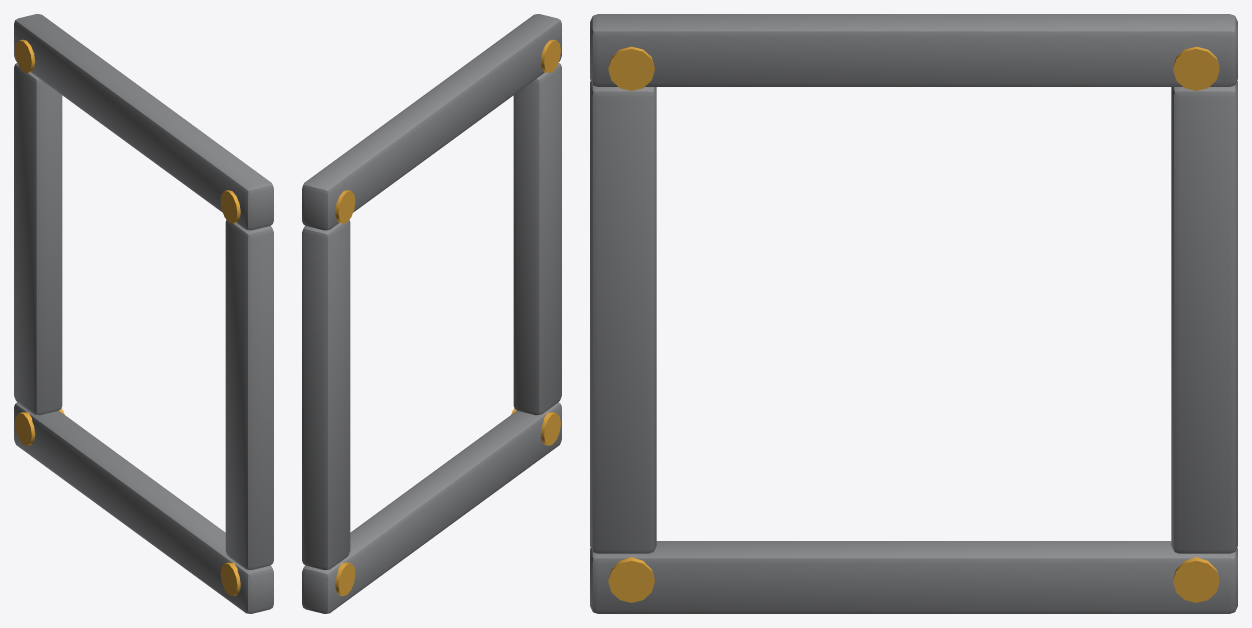
Rendered from acc_contact_frame.glb.
3 views of the same model, side by side, from view 1: azimuth 30°, elevation 25°; view 2: azimuth 150°, elevation 25°; view 3: azimuth 270°, elevation 25° (orthographic). The views are drawn at different scales.
Parts seen in each view (by area): view 1: Acc_ContactFrame; view 2: Acc_ContactFrame; view 3: Acc_ContactFrame.
Boxes of the visible parts, box(x1,y1,x2,y2) form: Acc_ContactFrame: box(14, 14, 273, 613); Acc_ContactFrame: box(302, 14, 561, 613); Acc_ContactFrame: box(590, 14, 1237, 613).
Bounding box in the file's own units: 0.068 × 0.78 × 0.78.
